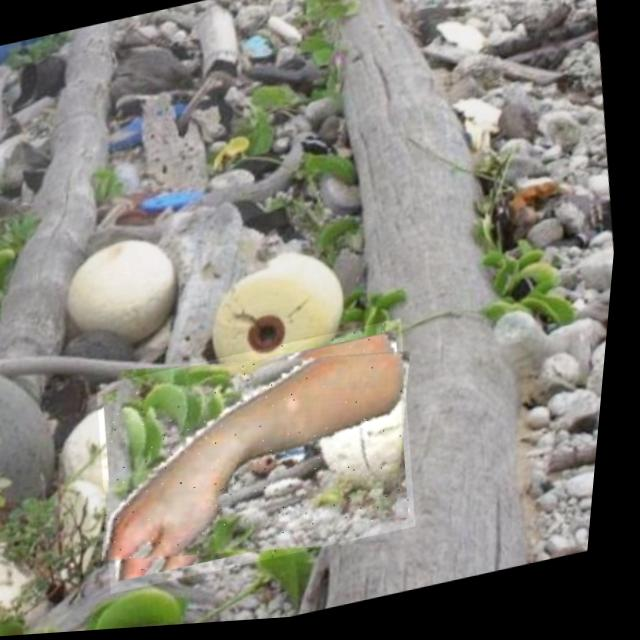Person in Rubble: (89, 323, 441, 598)
